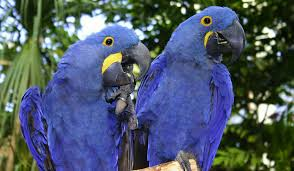guacamaya: (12, 25, 153, 171), (149, 1, 248, 165)
